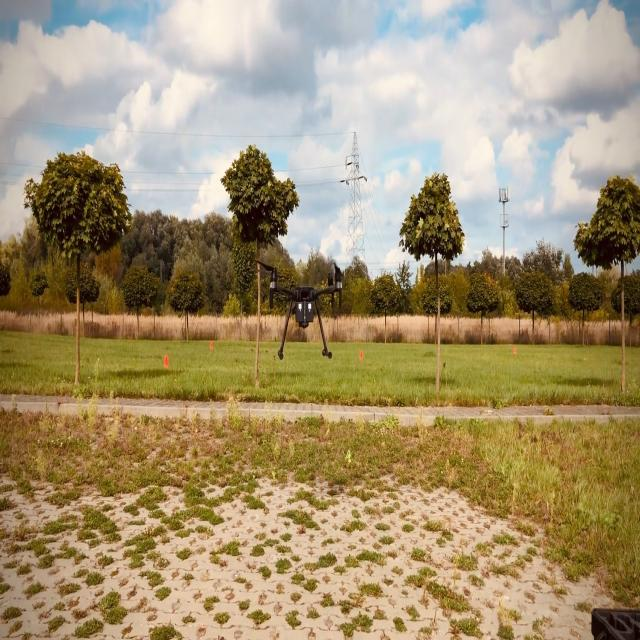drone: (255, 258, 343, 360)
